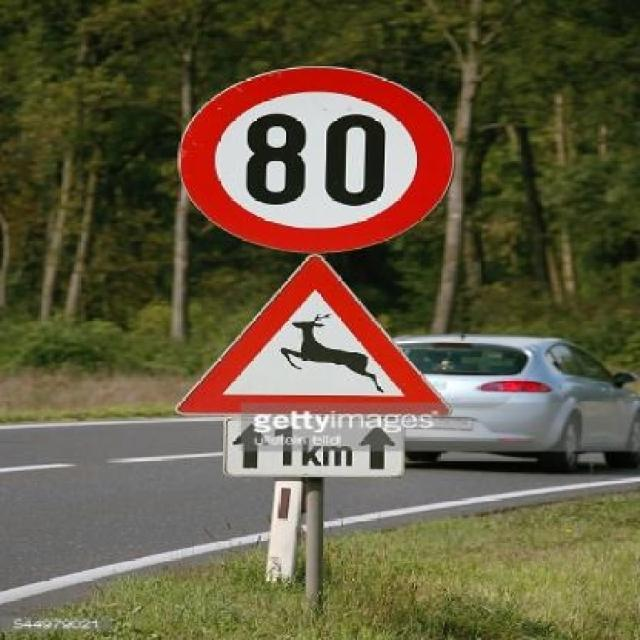forb_speed_over_80: (199, 88, 436, 242)
